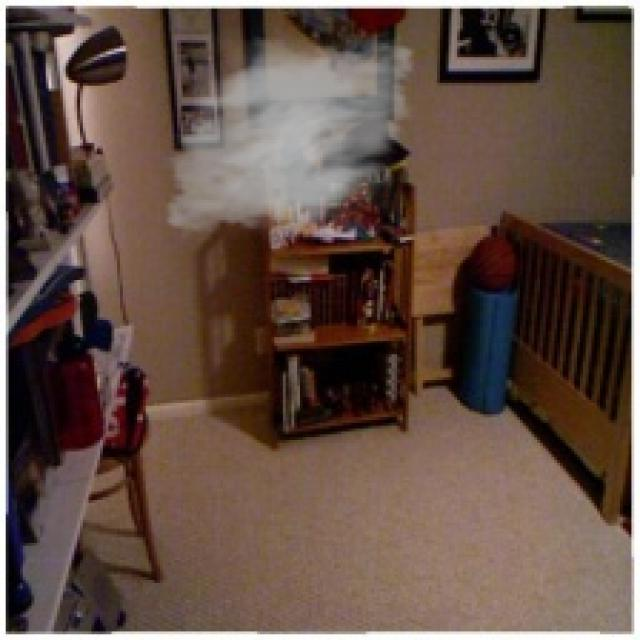smoke: (154, 20, 426, 249)
